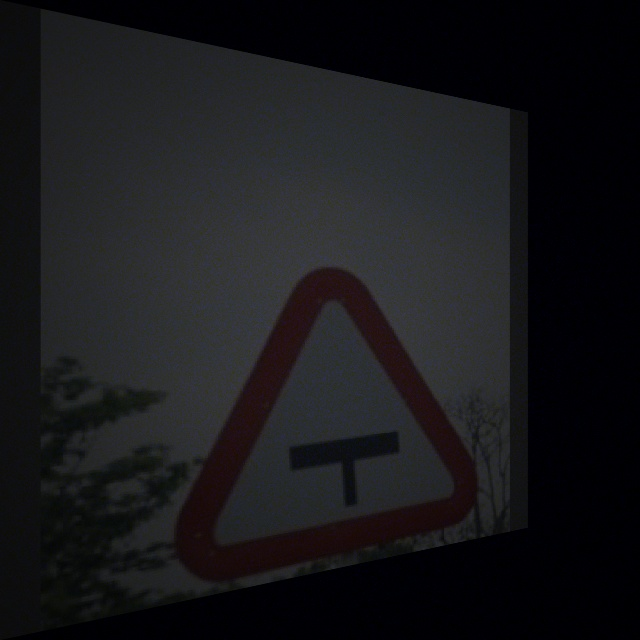T_Intersection: (182, 261, 476, 575)
